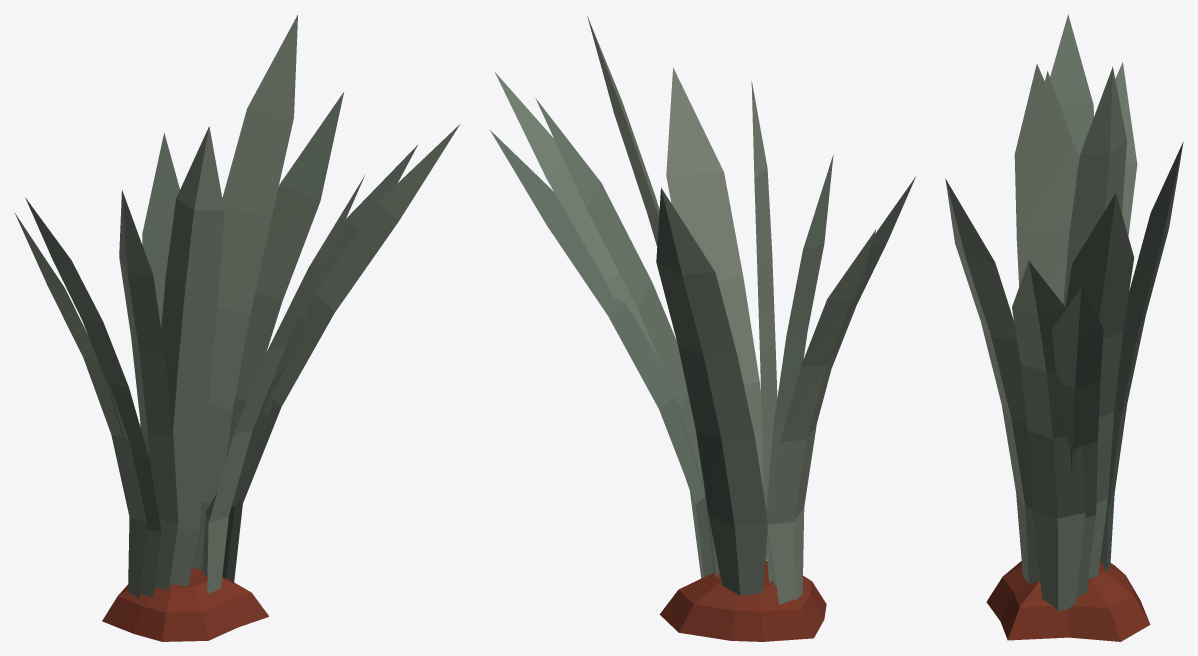
The model's file is seagrass-tuft-862cc5.glb.
3 views of the same model, side by side, from view 1: azimuth 30°, elevation 25°; view 2: azimuth 150°, elevation 25°; view 3: azimuth 270°, elevation 25° (orthographic). The views are drawn at different scales.
Visible parts, largest first — view 1: seagrass-blades, seagrass-root-knot; view 2: seagrass-blades, seagrass-root-knot; view 3: seagrass-blades, seagrass-root-knot.
Part boxes in pixels (bbox=[...]): seagrass-blades: bbox=[14, 15, 460, 598]; seagrass-root-knot: bbox=[102, 568, 268, 641]; seagrass-blades: bbox=[490, 16, 915, 604]; seagrass-root-knot: bbox=[659, 561, 826, 641]; seagrass-blades: bbox=[945, 14, 1183, 611]; seagrass-root-knot: bbox=[986, 561, 1150, 641].
Bounding box in the file's own units: 0.3954 × 0.4962 × 0.1741.
